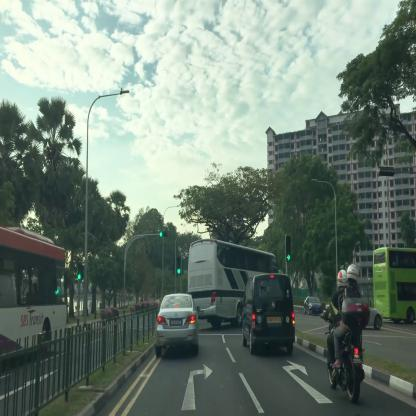green_traffic_light: (77, 264, 82, 278), (178, 257, 180, 273), (160, 232, 167, 236)
